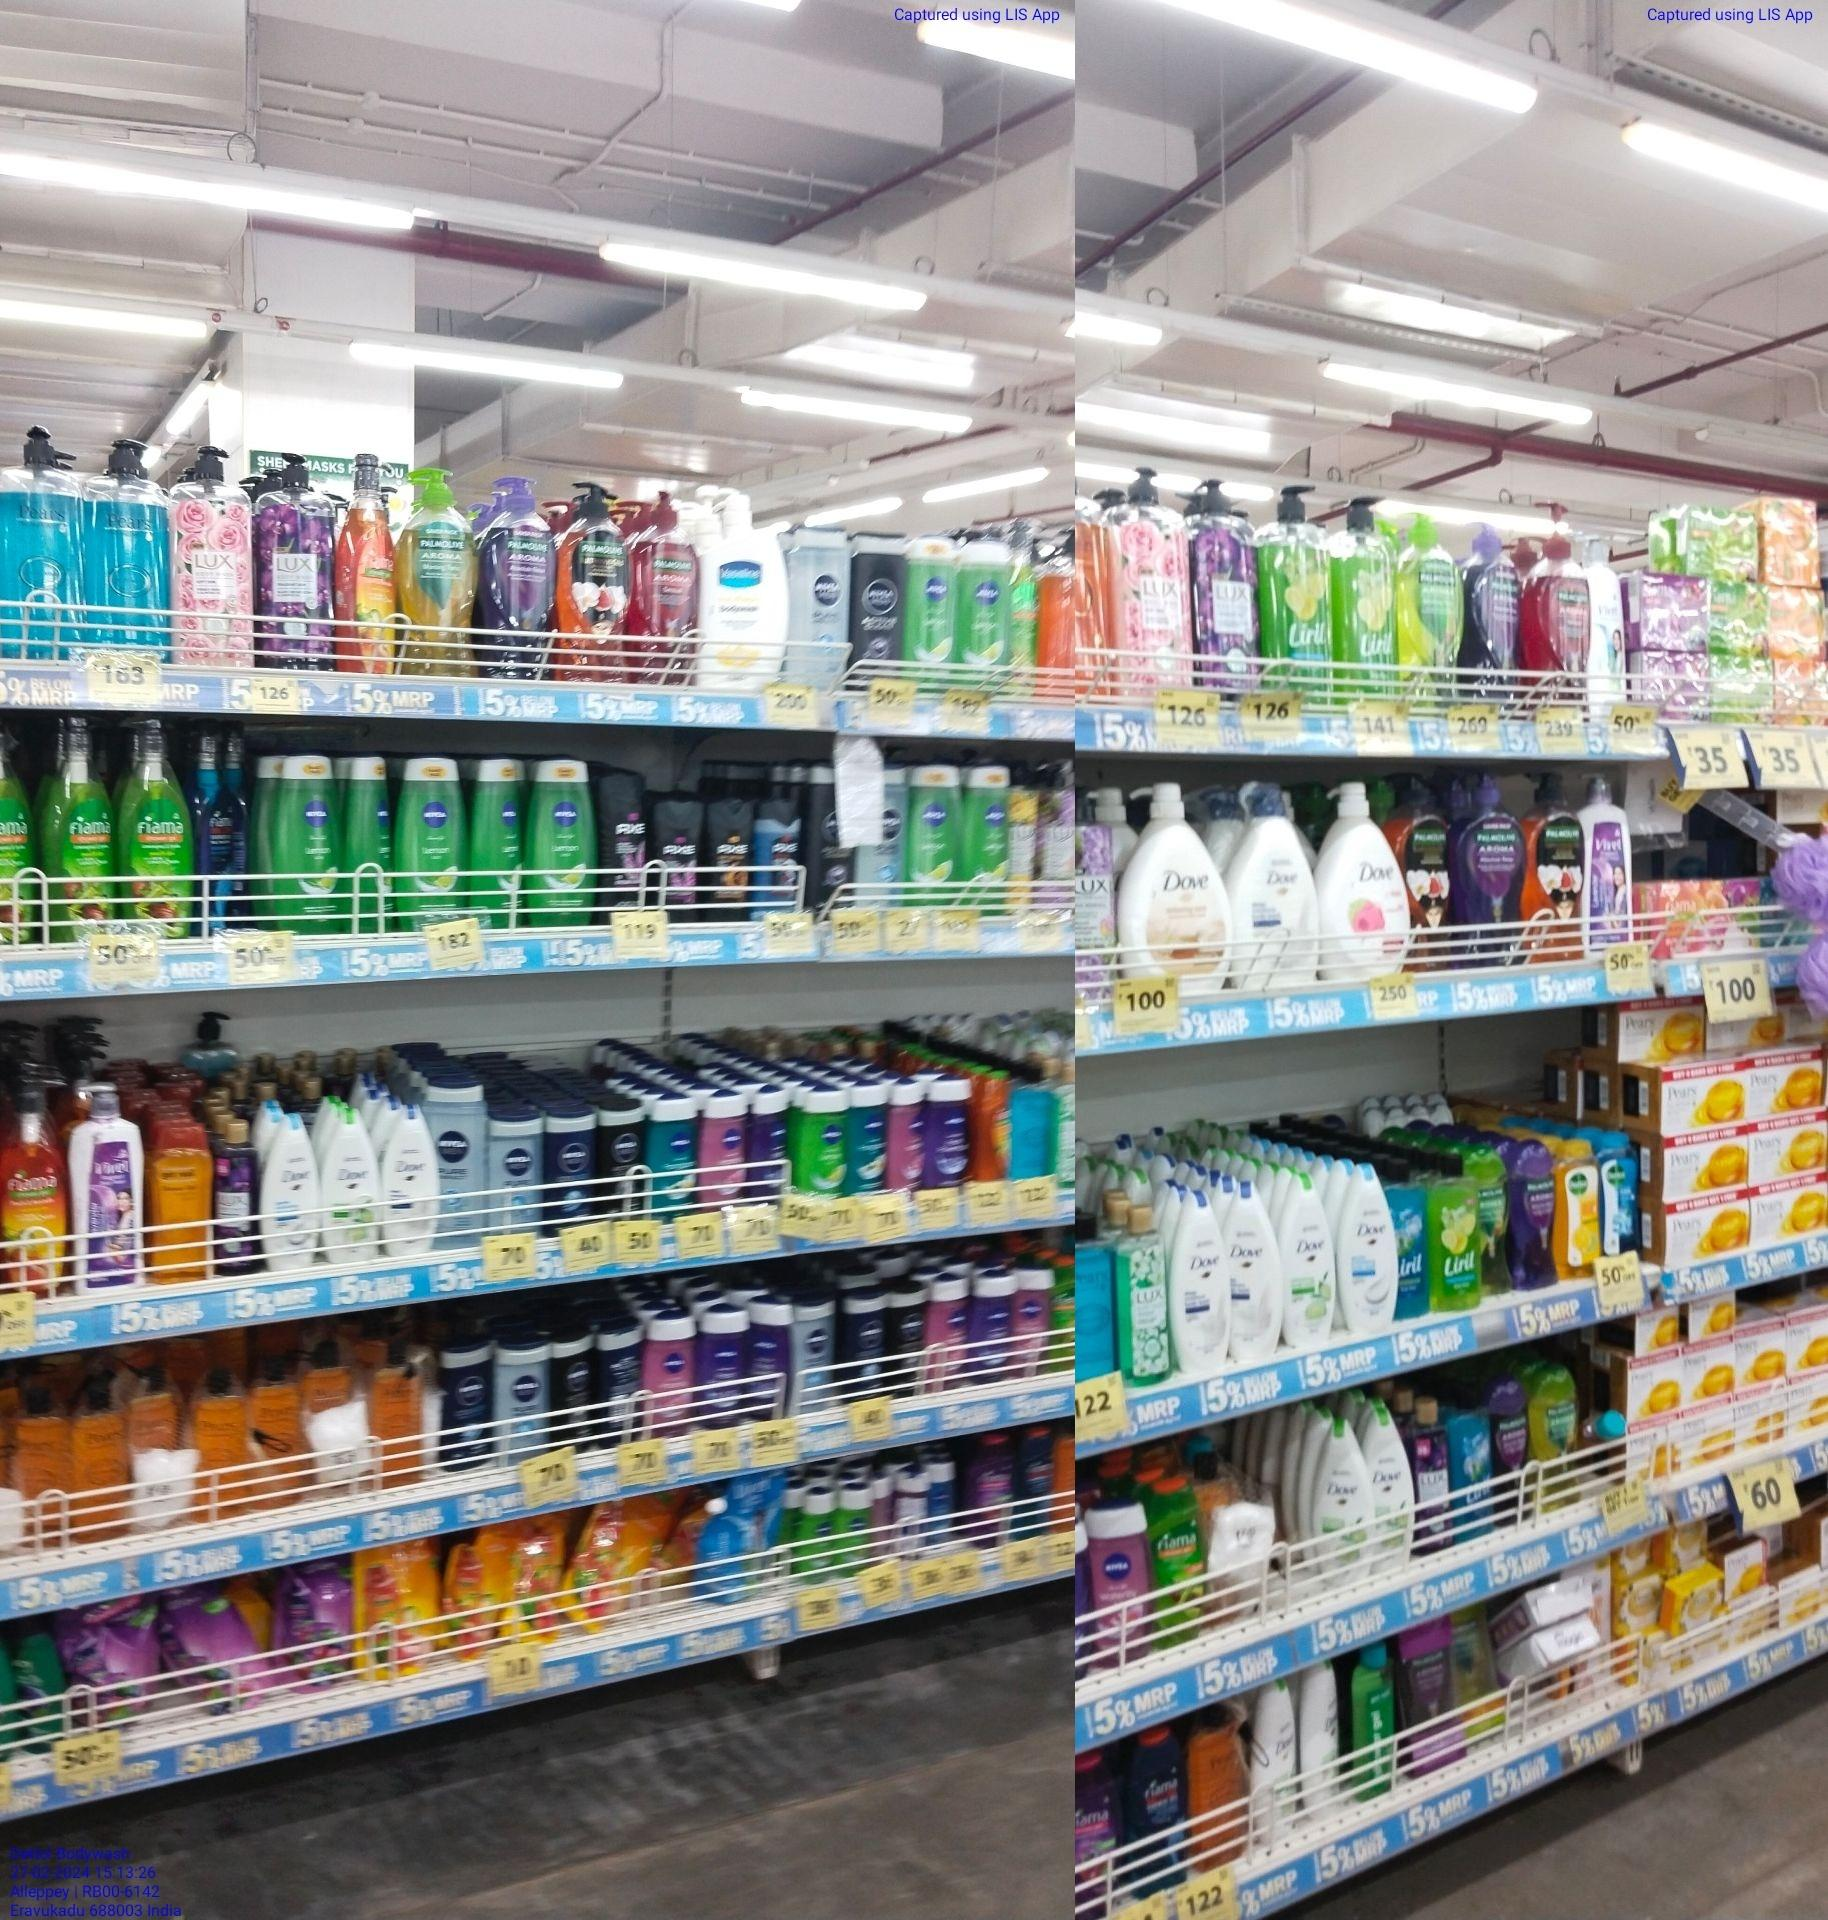Dettol_Bodywash_Cool: (1602, 1130, 1639, 1258)
Dettol_Bodywash_Refresh: (1557, 1142, 1603, 1281)
Dove_Deep_Moisture_Body_Wash_250ML: (1230, 1179, 1281, 1365), (1178, 1191, 1226, 1378), (381, 1109, 436, 1258)
Dove_Gentle_Exfoliating_Body_Wash_250ML: (1343, 1161, 1396, 1334), (262, 1113, 319, 1274)
Dove_Refreshing_Body_Wash_250ML: (1283, 1171, 1338, 1347), (1317, 1418, 1368, 1589), (328, 1107, 381, 1263), (1255, 1685, 1300, 1843), (1370, 1409, 1411, 1579), (1305, 1663, 1346, 1814)
Get_Real_Shower_Gel_Moisturising_Glycerin_300ML: (151, 1119, 213, 1286)
Liril_Cooling_Mint_Body_Wash_250ML: (1458, 1387, 1497, 1545), (1394, 1159, 1427, 1318)
Liril_Lime_and_Tea_Tree_Oil_Body_Wash_250ML: (1428, 1149, 1478, 1311)
Lux_Black_Orchid_Scent_and_Juniper_Oil_Body_Wash_245ML: (214, 1116, 257, 1279), (1415, 1395, 1454, 1558)
Lux_Body_Wash_Skin_Detox_Freesia_Scent_and_Alove_Vera_245ML: (1120, 1205, 1170, 1392)
Nivea_Shower_Gel_Frangipani_and_Oil_250ML: (646, 1090, 701, 1222), (851, 1078, 883, 1197)
Nivea_Shower_Gel_Fresh_Powerfruit_250ML: (696, 1311, 744, 1430), (744, 1296, 789, 1419), (929, 1073, 972, 1188), (753, 1082, 791, 1207), (974, 1270, 1010, 1387)
Nivea_Shower_Gel_Lemon_and_Oil_250ML: (403, 749, 468, 938), (530, 758, 600, 927), (281, 749, 343, 936), (957, 530, 1013, 691), (475, 753, 525, 933), (911, 528, 959, 701), (353, 751, 396, 939), (962, 765, 1015, 914), (909, 761, 959, 907), (801, 1083, 845, 1205)
Nivea_Shower_Gel_Waterlily_and_Oil_250ML: (1092, 1498, 1149, 1668), (646, 1318, 695, 1443), (705, 1087, 749, 1214), (931, 1274, 969, 1394), (888, 1080, 926, 1191), (1017, 1267, 1049, 1378)
Palmolive_Aroma_Morning_Tonic_Shower_Gel_250ML: (1533, 1368, 1578, 1514), (1480, 1149, 1516, 1298)
Palmolive_Aroma_Relax_250ML: (1519, 1142, 1555, 1291), (1497, 1378, 1530, 1527)
